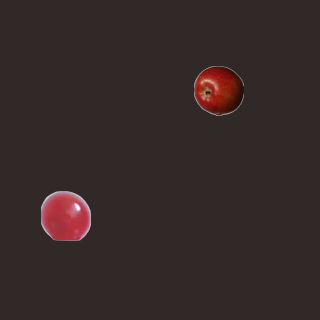Apple Braeburn: (193, 65, 243, 115)
Redcurrant: (40, 190, 90, 240)
